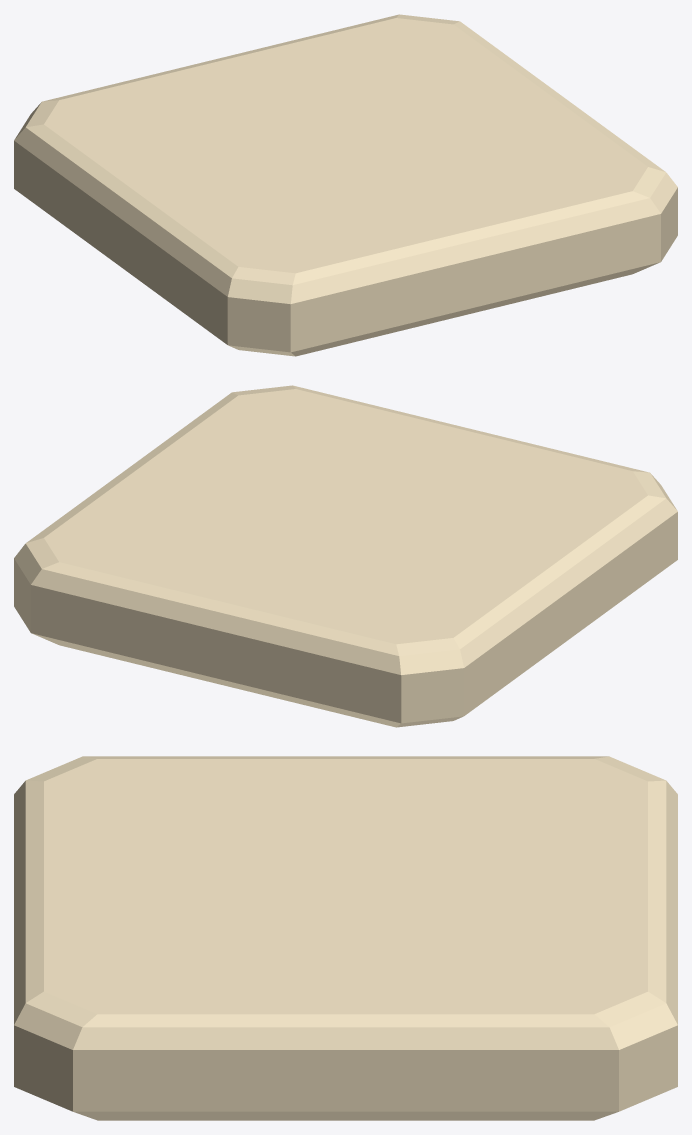
The model's file is board-cell.glb.
The picture shows the model from 3 angles, top to bottom: view 1: azimuth 30°, elevation 25°; view 2: azimuth 150°, elevation 25°; view 3: azimuth 270°, elevation 25°; orthographic projection. The views are drawn at different scales.
Visible parts, largest first — view 1: board-cell; view 2: board-cell; view 3: board-cell.
Part boxes in pixels (x1=…): board-cell: x1=14, y1=14, x2=677, y2=356; board-cell: x1=14, y1=385, x2=677, y2=727; board-cell: x1=14, y1=756, x2=677, y2=1120.
Bounding box in the file's own units: 1.24 × 0.219 × 1.24.
